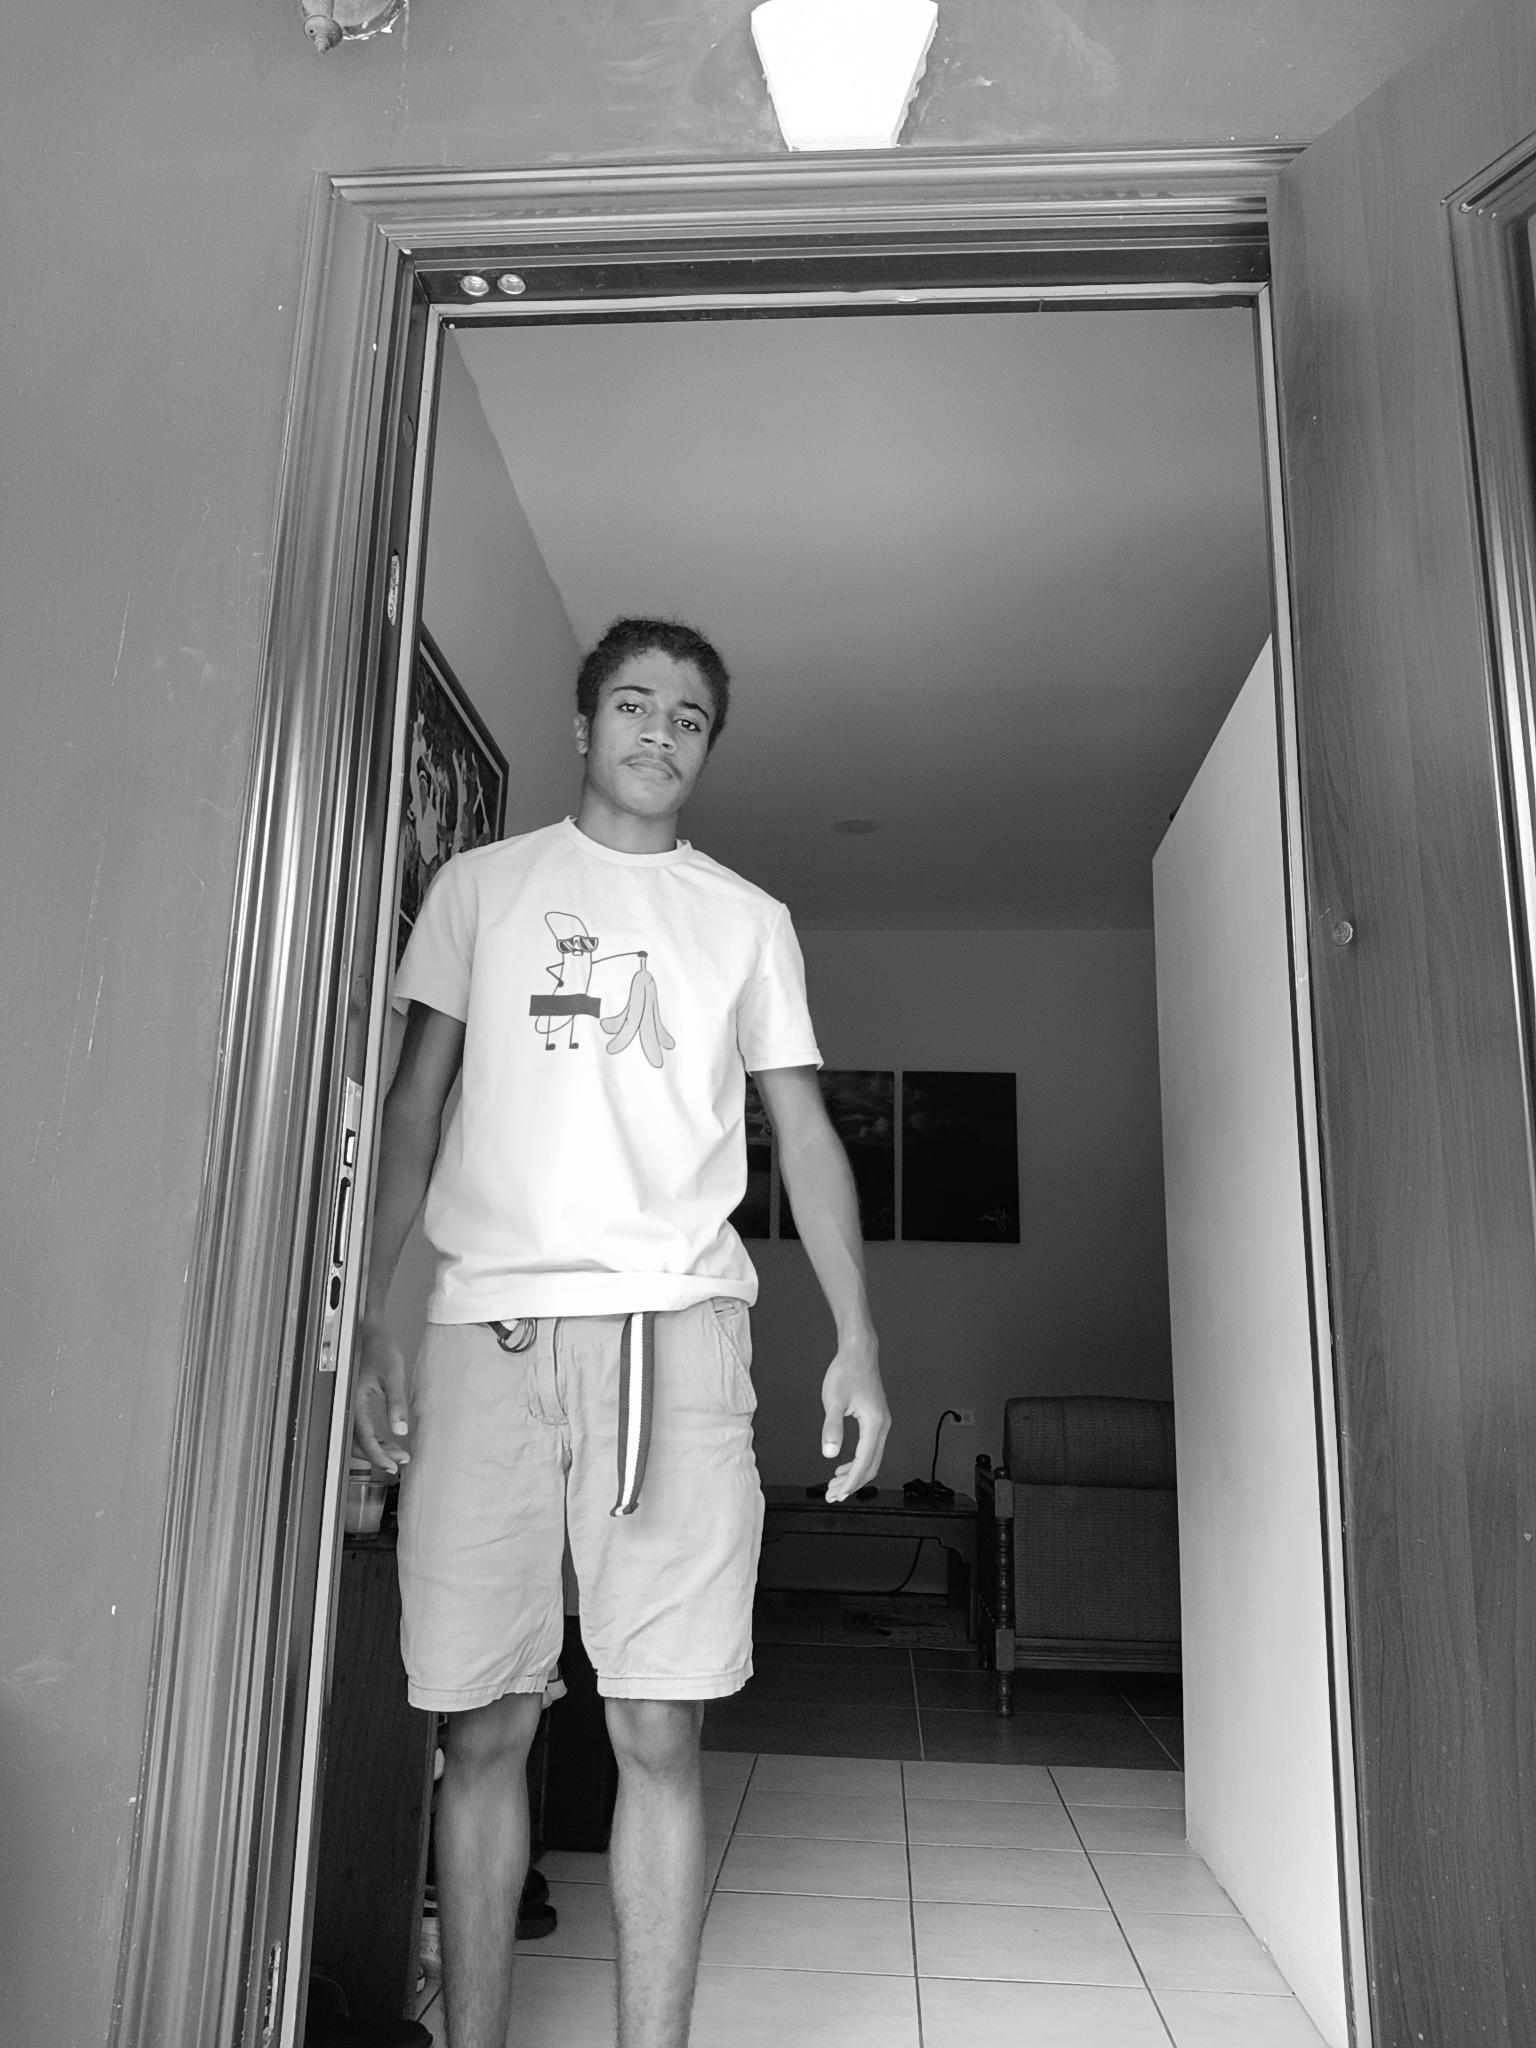front: (347, 611, 895, 2038)
